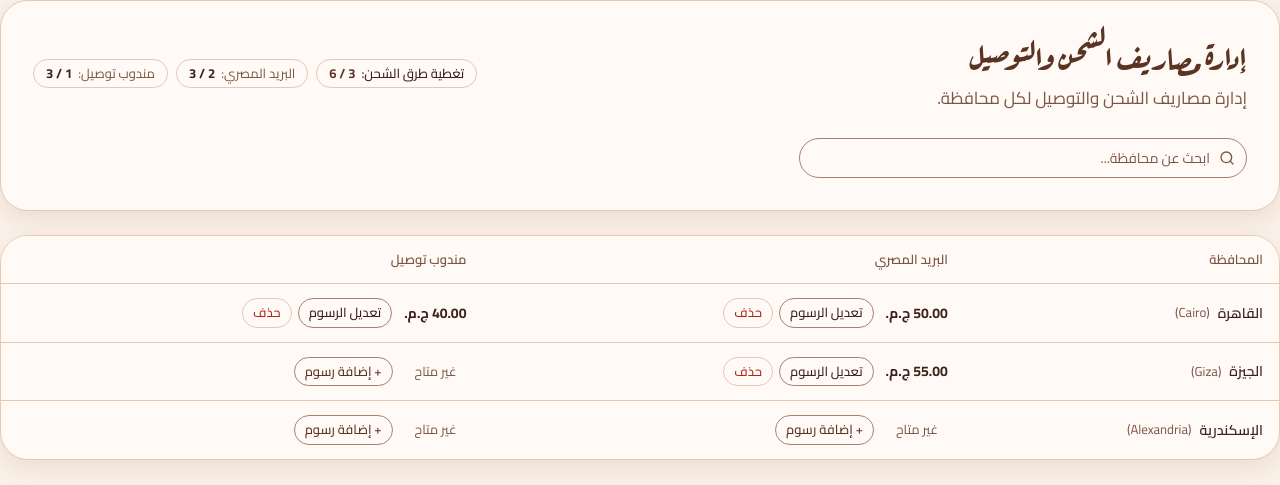
Admin Delivery Fees (T-5.07) › DeliveryFeesPage UI › filters governorates by search query
Expected: the column heading "المحافظة" is shown, x1=964 y1=236 x2=1279 y2=284
Step 1. Type "الإسكندرية" into the search field → (1023, 158), box x1=799 y1=138 x2=1247 y2=178
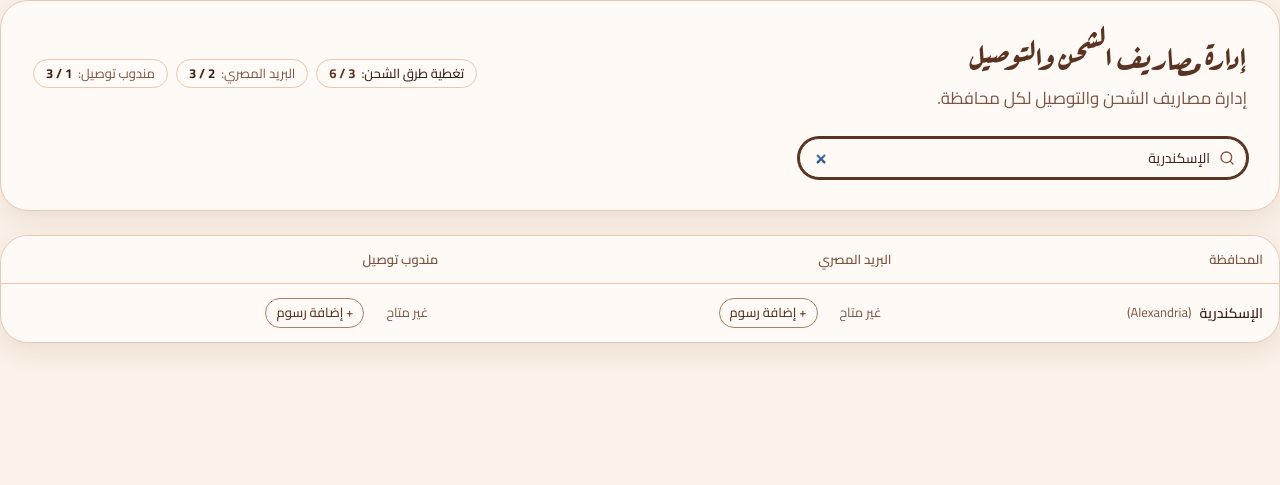
Expected: the text "الإسكندرية" is shown, x1=1199 y1=302 x2=1263 y2=324
Now the text "القاهرة" is gone
Now the text "الجيزة" is gone
